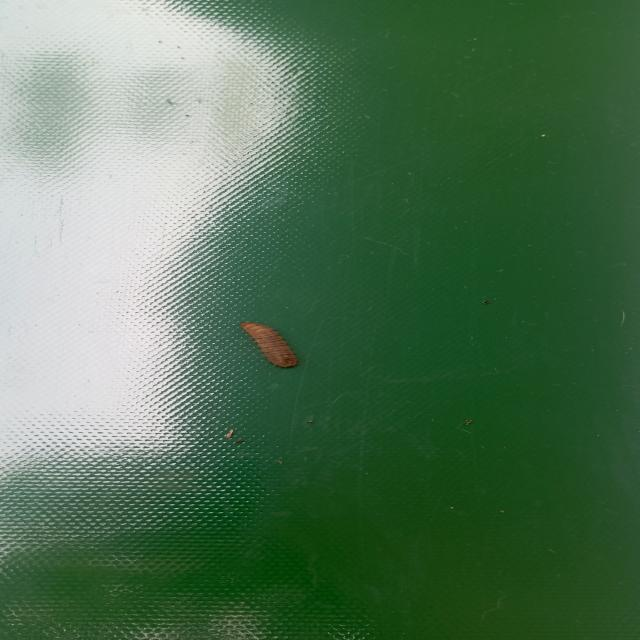Maggot: (242, 322, 299, 370)
